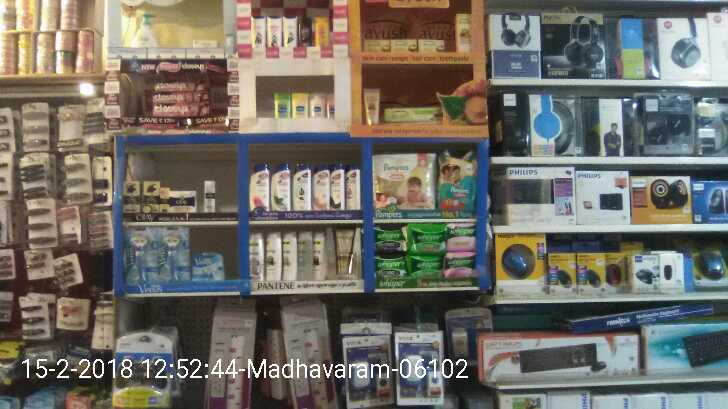venus: (125, 230, 157, 281), (157, 230, 189, 279), (189, 250, 223, 279)
